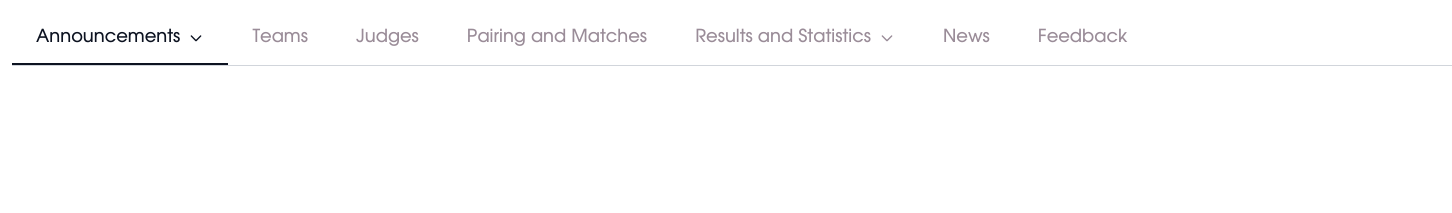
Scenario: TournamentTabs › keeps Results selection and dropdown state observable through ARIA
Click the tab "Results and Statistics" at [795, 38], box x1=671 y1=12 x2=919 y2=65
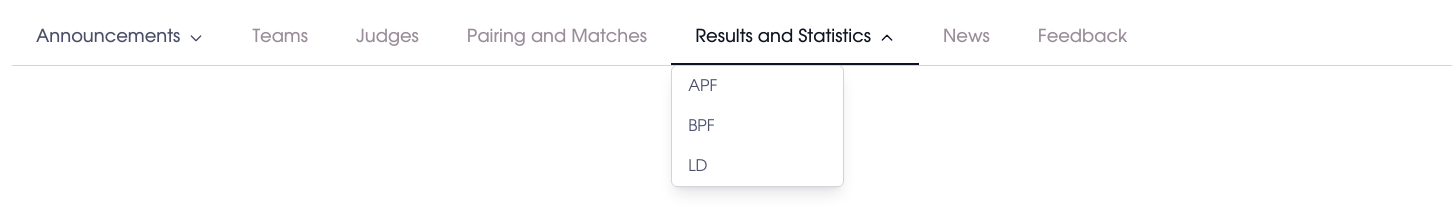
expect the tab "Results and Statistics" is expanded: met
Click the tab "Results and Statistics" at [795, 38], box x1=671 y1=12 x2=919 y2=65
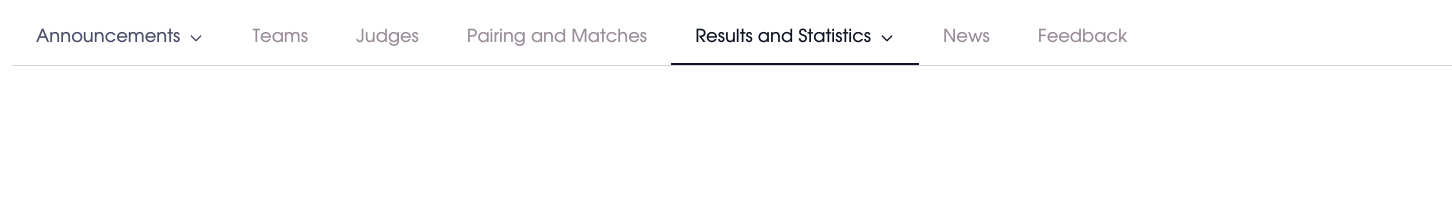
expect the tab "Results and Statistics" is collapsed: met, box x1=671 y1=12 x2=919 y2=65
